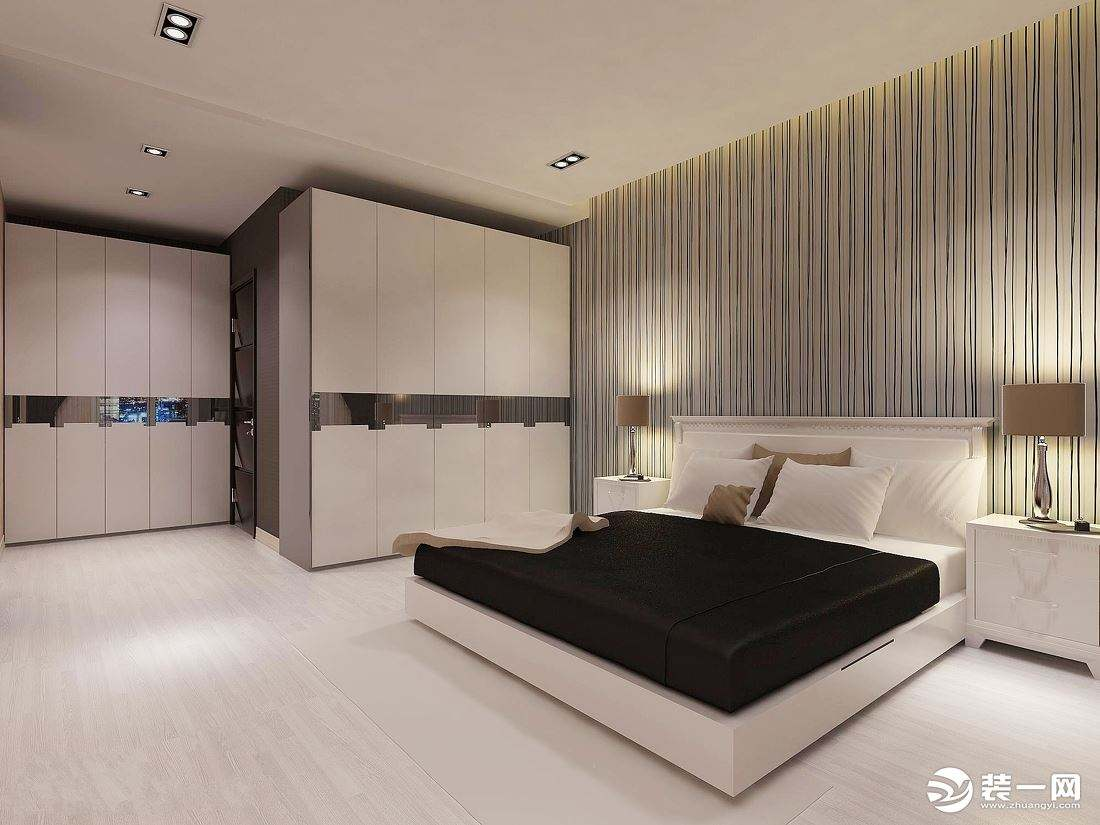床: (416, 496, 967, 766)
枕头: (679, 441, 951, 555)
灯: (1004, 382, 1091, 530), (616, 393, 666, 482), (148, 10, 201, 50), (549, 152, 594, 174), (139, 142, 169, 163), (121, 184, 150, 204)
